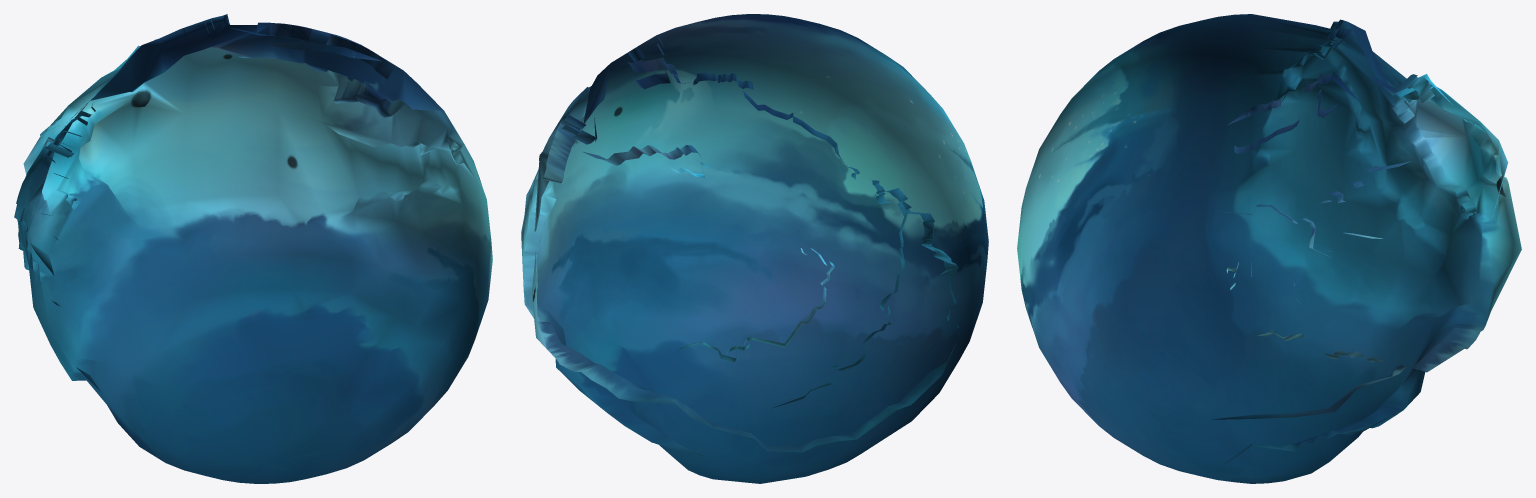
Rendered from cloud.glb.
3 renders of one model, left to right at view 1: azimuth 30°, elevation 25°; view 2: azimuth 150°, elevation 25°; view 3: azimuth 270°, elevation 25°, orthographic.
Visible parts, largest first — view 1: Object001; view 2: Object001; view 3: Object001.
Part boxes in pixels (bbox=[...]): Object001: bbox=[14, 14, 492, 483]; Object001: bbox=[521, 14, 988, 483]; Object001: bbox=[1017, 14, 1521, 483].
Bounding box in the file's own units: 10.34 × 10.09 × 10.75.
Materials: 1 (1 with a texture image).
